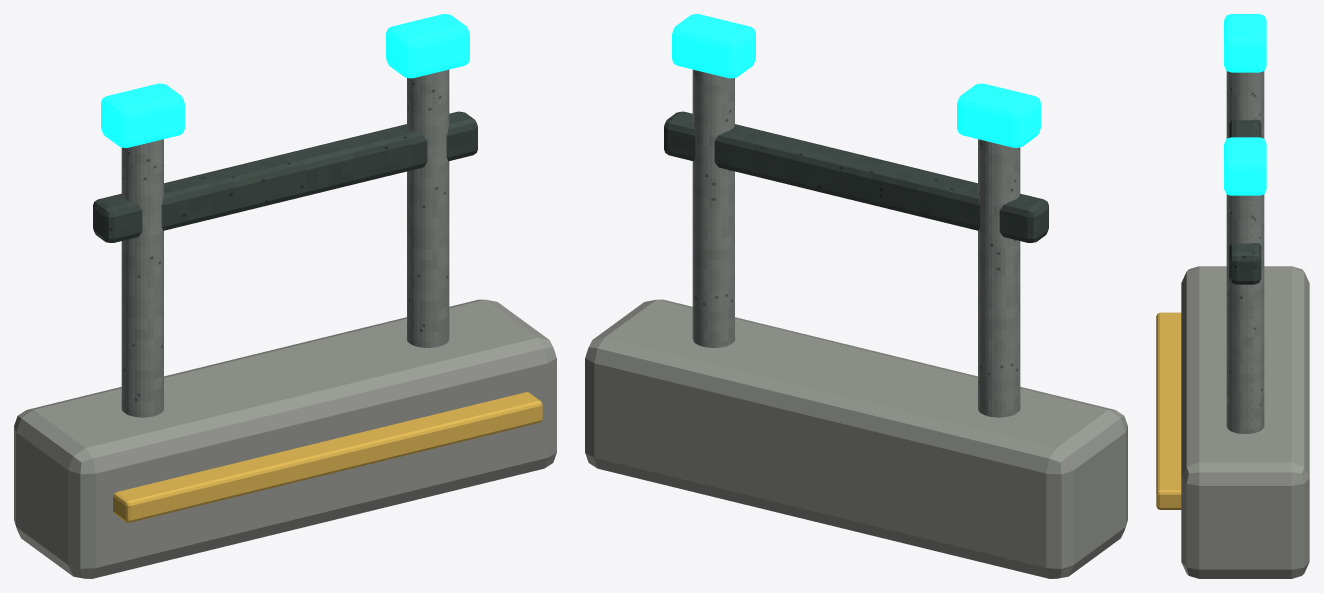
File: ff_rdm_01_v1.glb
3 views of the same model, side by side, from view 1: azimuth 30°, elevation 25°; view 2: azimuth 150°, elevation 25°; view 3: azimuth 270°, elevation 25° (orthographic). The views are drawn at different scales.
Parts seen in each view (by area): view 1: concrete_foot, marker_crossbar, warning_face, marker_post_1, marker_post_0, marker_signal_0, marker_signal_1; view 2: concrete_foot, marker_crossbar, marker_post_1, marker_post_0, marker_signal_0, marker_signal_1; view 3: concrete_foot, marker_post_1, warning_face, marker_signal_0, marker_signal_1, marker_post_0, marker_crossbar.
Part boxes in pixels (x1,y1,x2,y2): concrete_foot: [14, 299, 556, 578]; marker_crossbar: [93, 111, 477, 242]; warning_face: [113, 392, 542, 522]; marker_post_1: [407, 69, 449, 347]; marker_post_0: [121, 139, 163, 417]; marker_signal_0: [101, 83, 184, 147]; marker_signal_1: [386, 14, 469, 78]; concrete_foot: [585, 299, 1127, 578]; marker_crossbar: [664, 111, 1048, 242]; marker_post_1: [692, 69, 734, 347]; marker_post_0: [978, 139, 1020, 417]; marker_signal_0: [957, 83, 1040, 147]; marker_signal_1: [672, 14, 755, 78]; concrete_foot: [1181, 266, 1309, 578]; marker_post_1: [1226, 194, 1264, 433]; warning_face: [1156, 312, 1181, 509]; marker_signal_0: [1224, 14, 1266, 72]; marker_signal_1: [1224, 137, 1266, 195]; marker_post_0: [1226, 71, 1264, 138]; marker_crossbar: [1229, 119, 1261, 284].
Bounding box in the file's own units: 2.8 × 2.44 × 0.86.
5 materials, 2 textured.
